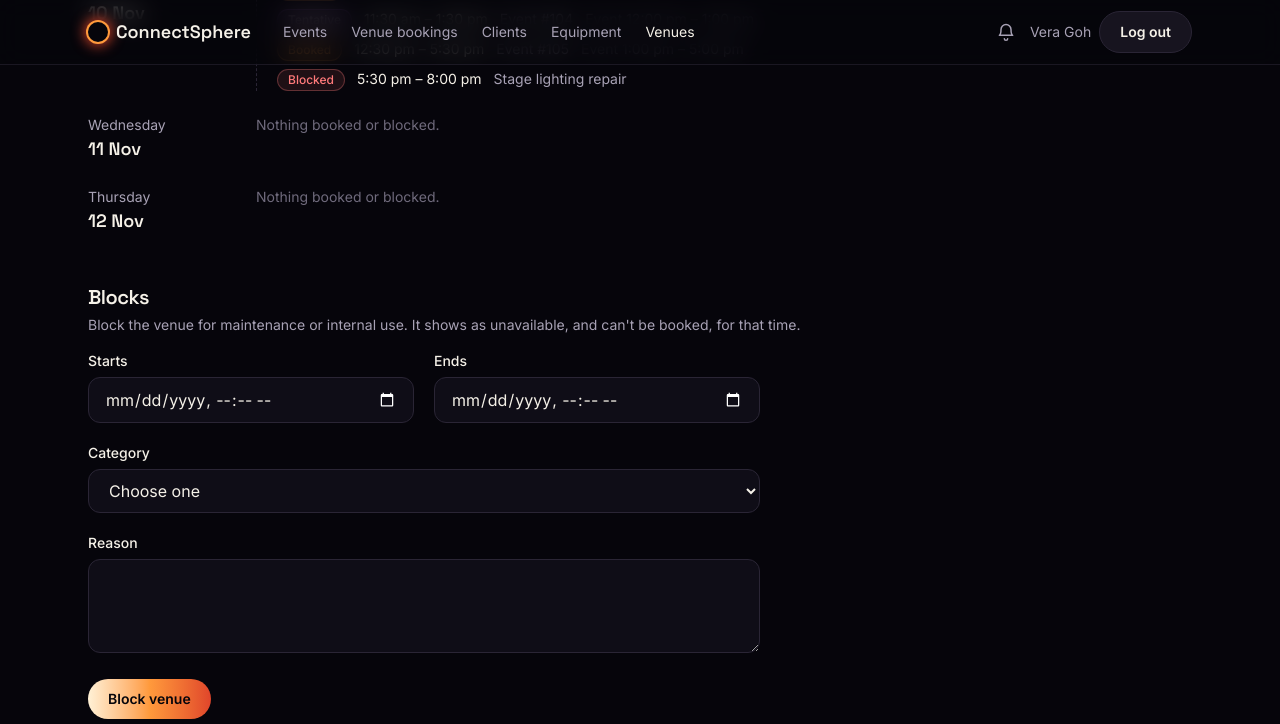
Test case: SCRUM-34 blocking over confirmed bookings (AC2, ADR-0016) › saves the block and names each booking it cuts into, with the period it holds the venue
(page scrolled)
Type "2026-11-10T11:00" into the field labelled "Starts" at [251, 400], box [88,377,414,423]
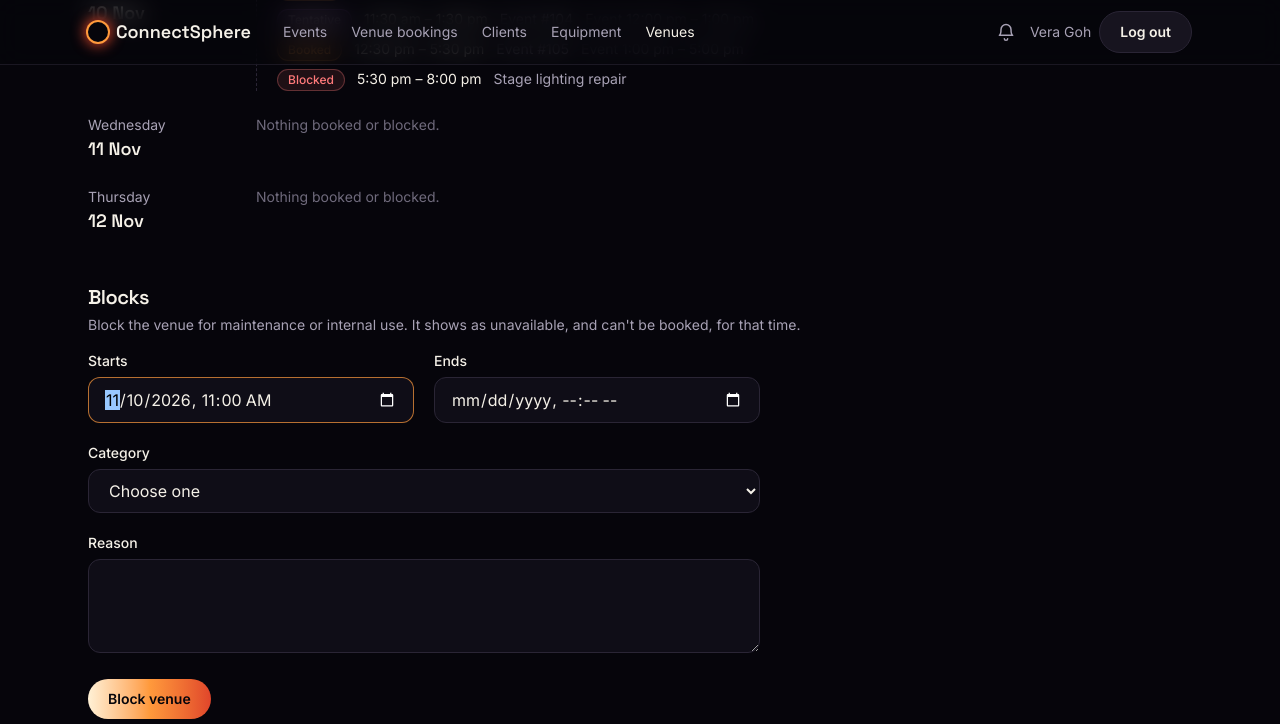
Type "2026-11-10T14:00" into the field labelled "Ends" at [597, 400], box [434,377,760,423]
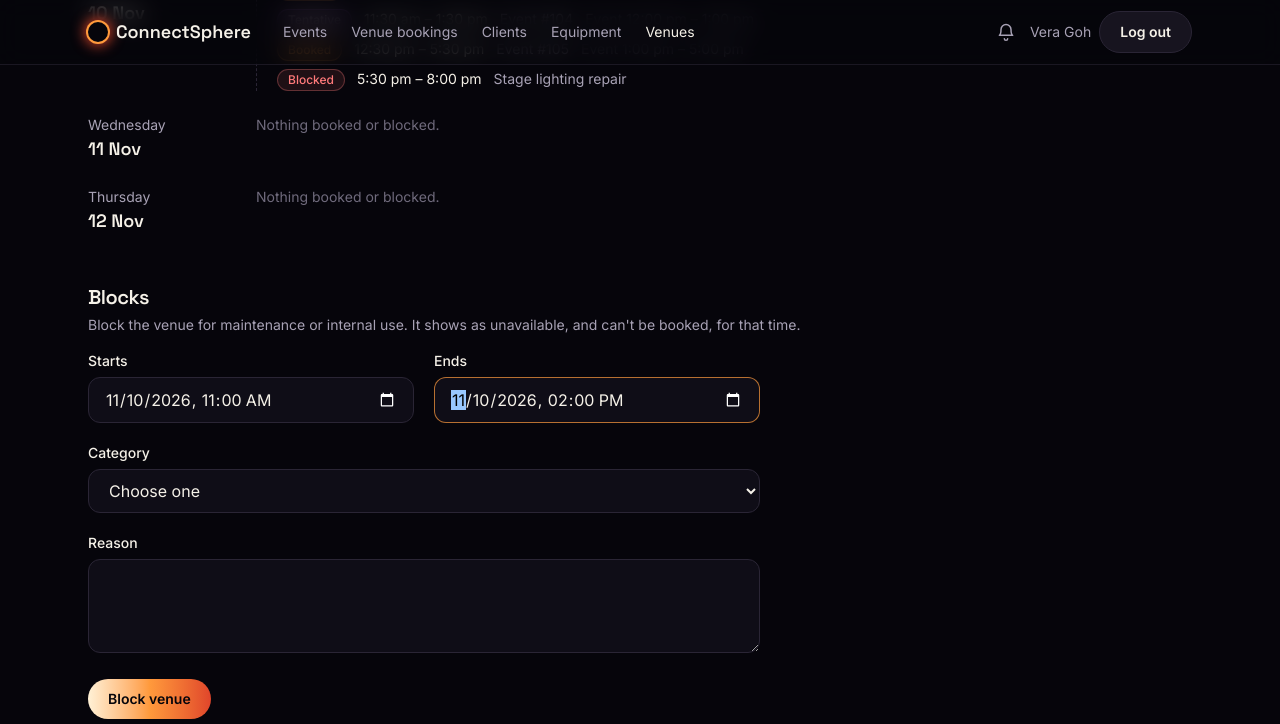
Select "Safety concern" in the dropdown labelled "Category" at [424, 491], box [88,469,760,513]
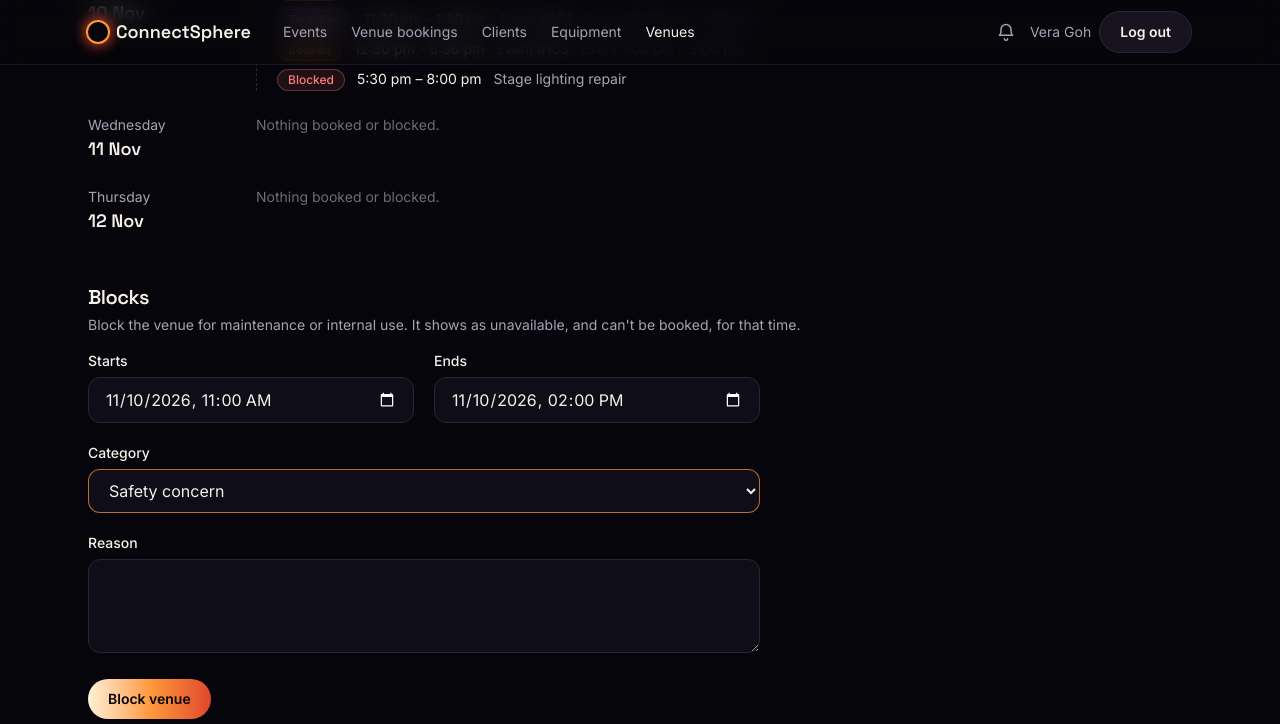
Type "Fire alarm test" into the text box labelled "Reason" at [424, 606], box [88,559,760,653]
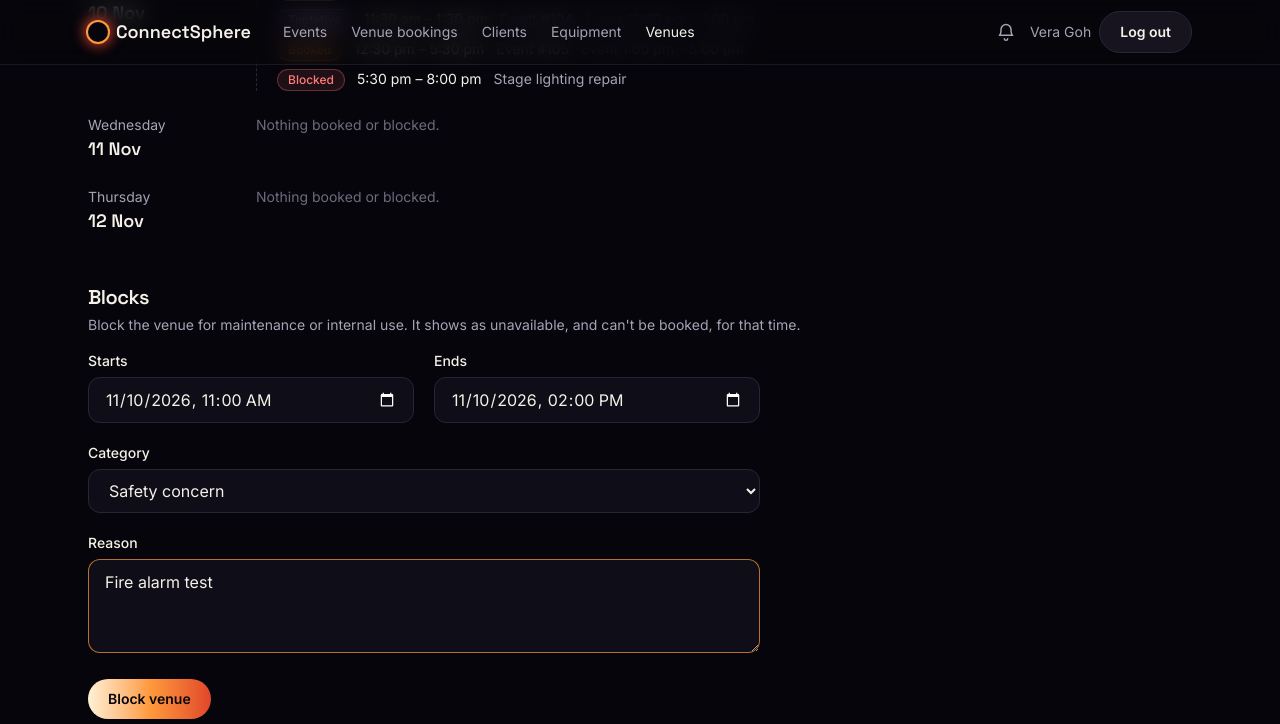
Click the button "Block venue" at [149, 699], box [88,679,211,719]
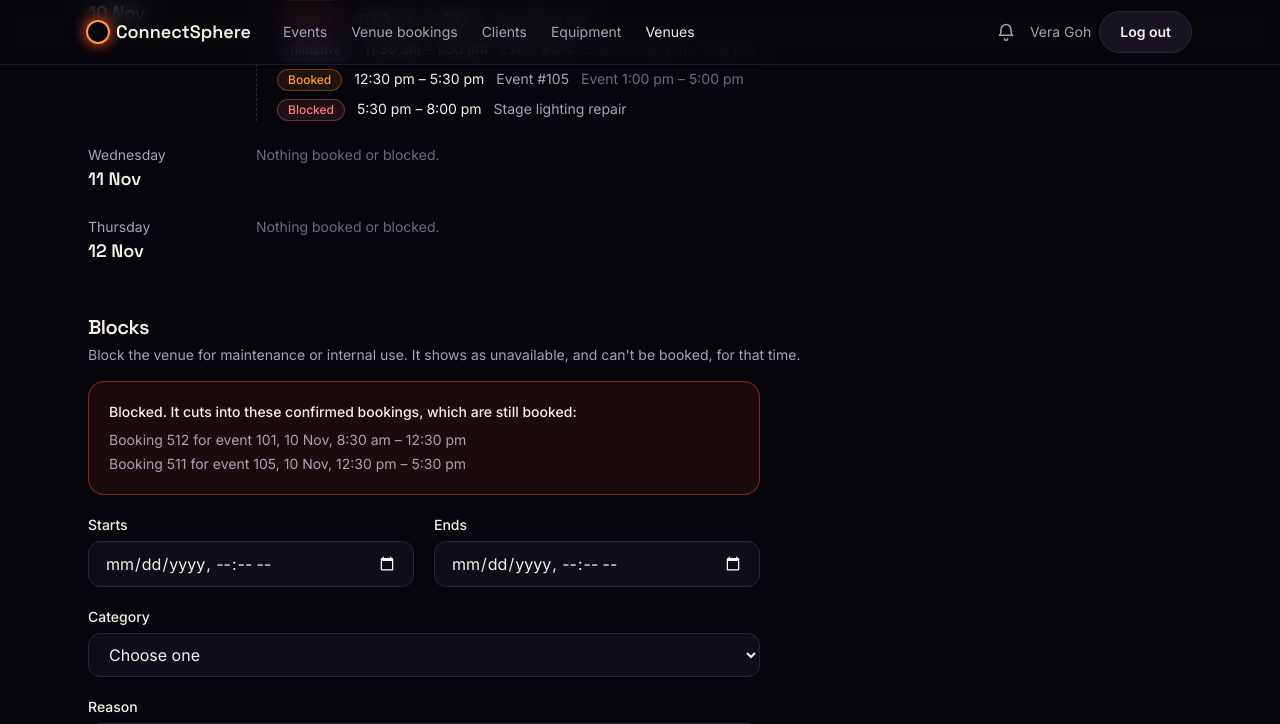
Expected: the list items read "Booking 512 for event 101, 10 Nov, 8:30 am – 12:30 pm", "Booking 511 for event 105, 10 Nov, 12:30 pm – 5:30 pm", in this order, [109,431,466,448]; [109,455,466,472]
